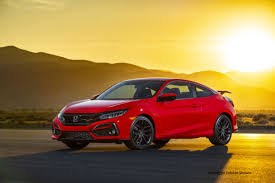Honda: (53, 76, 238, 149)
